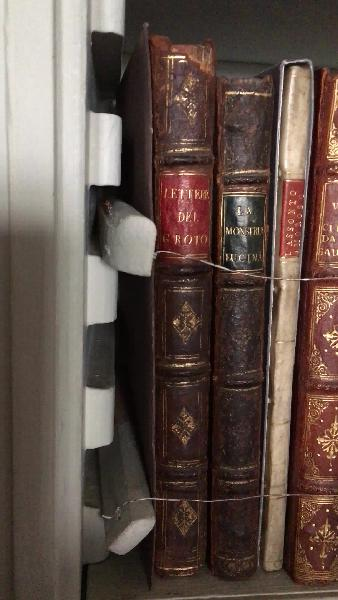Aa6-1: (132, 16, 218, 578)
Aa6-2: (210, 52, 275, 590)
Aa6-3: (257, 47, 324, 576)
Aa6-4: (282, 49, 338, 600)
